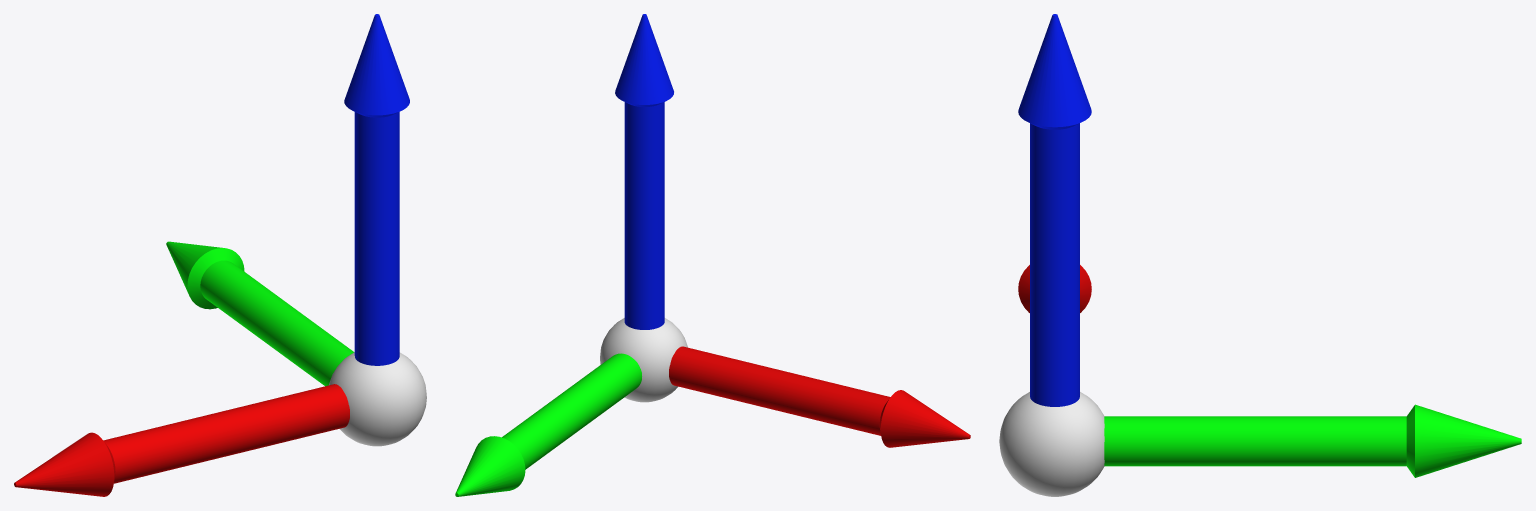
The model's file is axis.fbx.
3 renders of one model, left to right at view 1: azimuth 30°, elevation 25°; view 2: azimuth 150°, elevation 25°; view 3: azimuth 270°, elevation 25°, orthographic. The views are drawn at different scales.
Parts seen in each view (by area): view 1: Cylinder; view 2: Cylinder; view 3: Cylinder.
Part boxes in pixels (x1,y1,x2,y2): Cylinder: [14, 14, 426, 496]; Cylinder: [455, 14, 970, 496]; Cylinder: [999, 14, 1521, 496].
Bounding box in the file's own units: 3.07 × 3.09 × 3.07.
